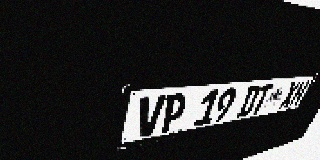1: (194, 89, 222, 127)
9: (211, 87, 238, 123)
D: (236, 85, 262, 118)
N: (288, 80, 310, 107)
P: (159, 92, 189, 134)
T: (249, 84, 274, 115)
V: (135, 95, 166, 139)
X: (278, 81, 301, 109)
